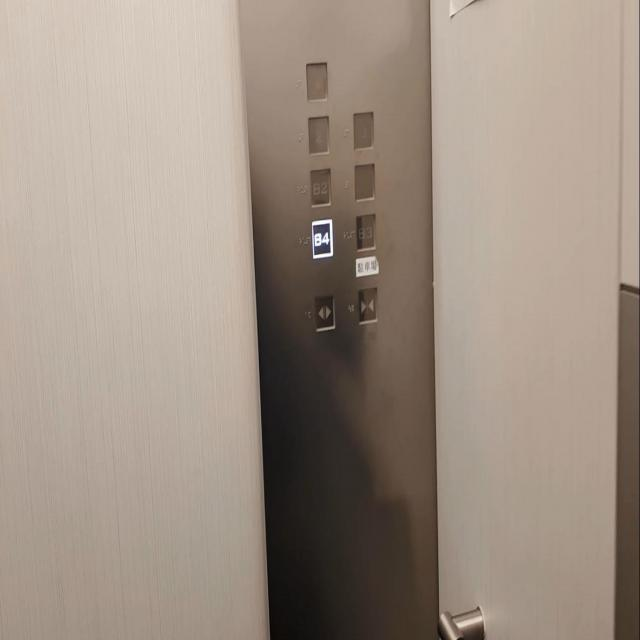2: (306, 112, 330, 154)
3: (352, 109, 374, 150)
B2: (308, 165, 331, 206)
B3: (354, 210, 377, 251)
B4: (310, 216, 334, 258)
close: (356, 282, 379, 324)
empty: (352, 160, 376, 201), (305, 60, 328, 101)
open: (312, 290, 336, 331)
